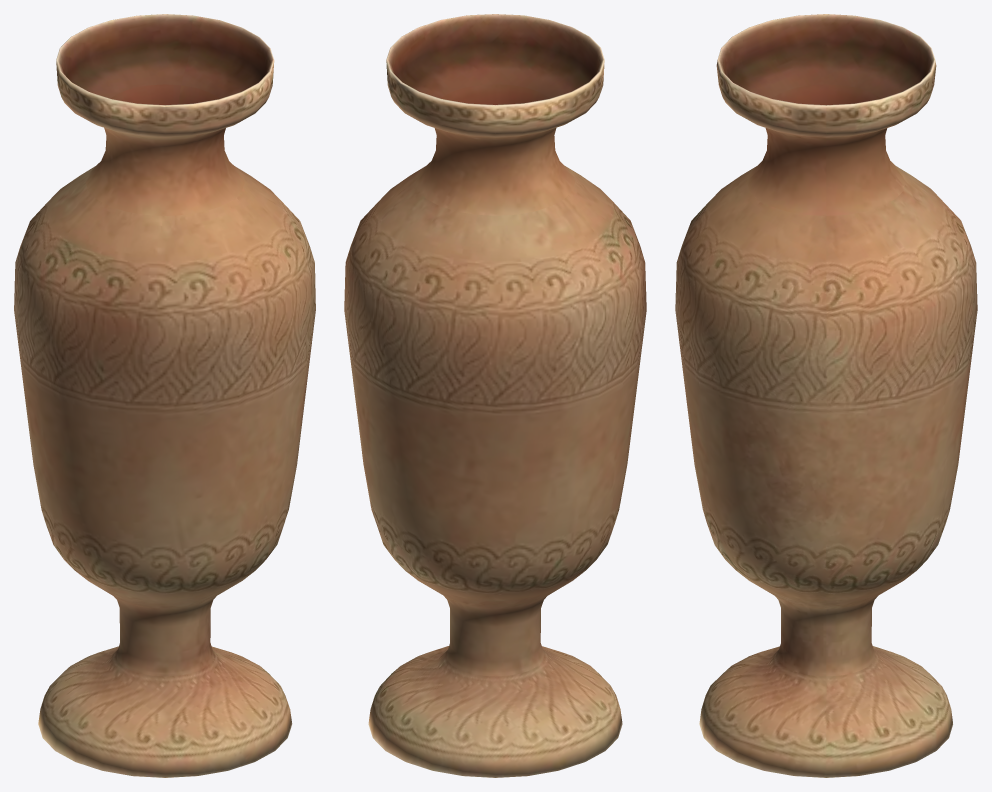
Rendered from brass_vase_03.glb.
The picture shows the model from 3 angles, left to right: view 1: azimuth 30°, elevation 25°; view 2: azimuth 150°, elevation 25°; view 3: azimuth 270°, elevation 25°; orthographic projection.
Visible parts, largest first — view 1: brass_vase_03; view 2: brass_vase_03; view 3: brass_vase_03.
Boxes of the visible parts, box(x1,y1,x2,y2) form: brass_vase_03: box(14, 14, 315, 777); brass_vase_03: box(344, 14, 646, 777); brass_vase_03: box(675, 14, 977, 777).
Bounding box in the file's own units: 0.0825 × 0.2004 × 0.0825.
1 material, 1 textured.
